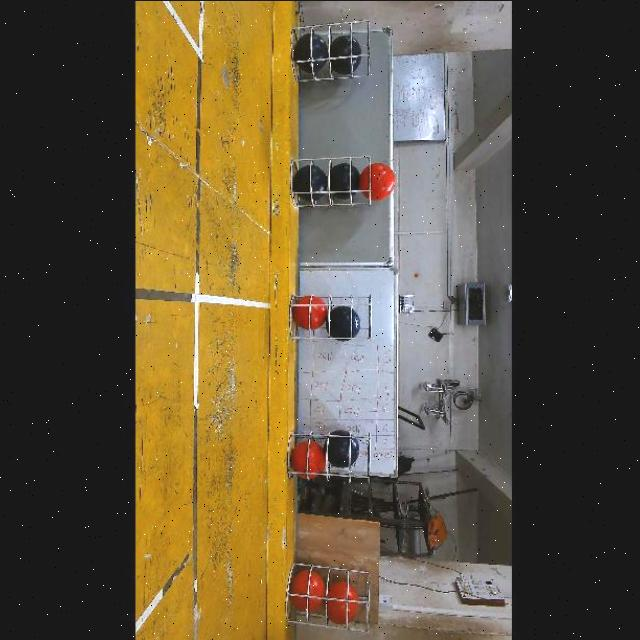P: (295, 32, 330, 73), (293, 164, 329, 201), (326, 430, 361, 467), (331, 35, 363, 74), (327, 305, 361, 341), (331, 162, 361, 198)
R: (291, 569, 326, 611), (327, 580, 360, 624), (360, 162, 397, 199), (291, 440, 327, 478), (293, 295, 329, 329)
S: (286, 560, 372, 634), (291, 16, 375, 86), (288, 428, 374, 486), (290, 152, 374, 208), (290, 290, 374, 342)
